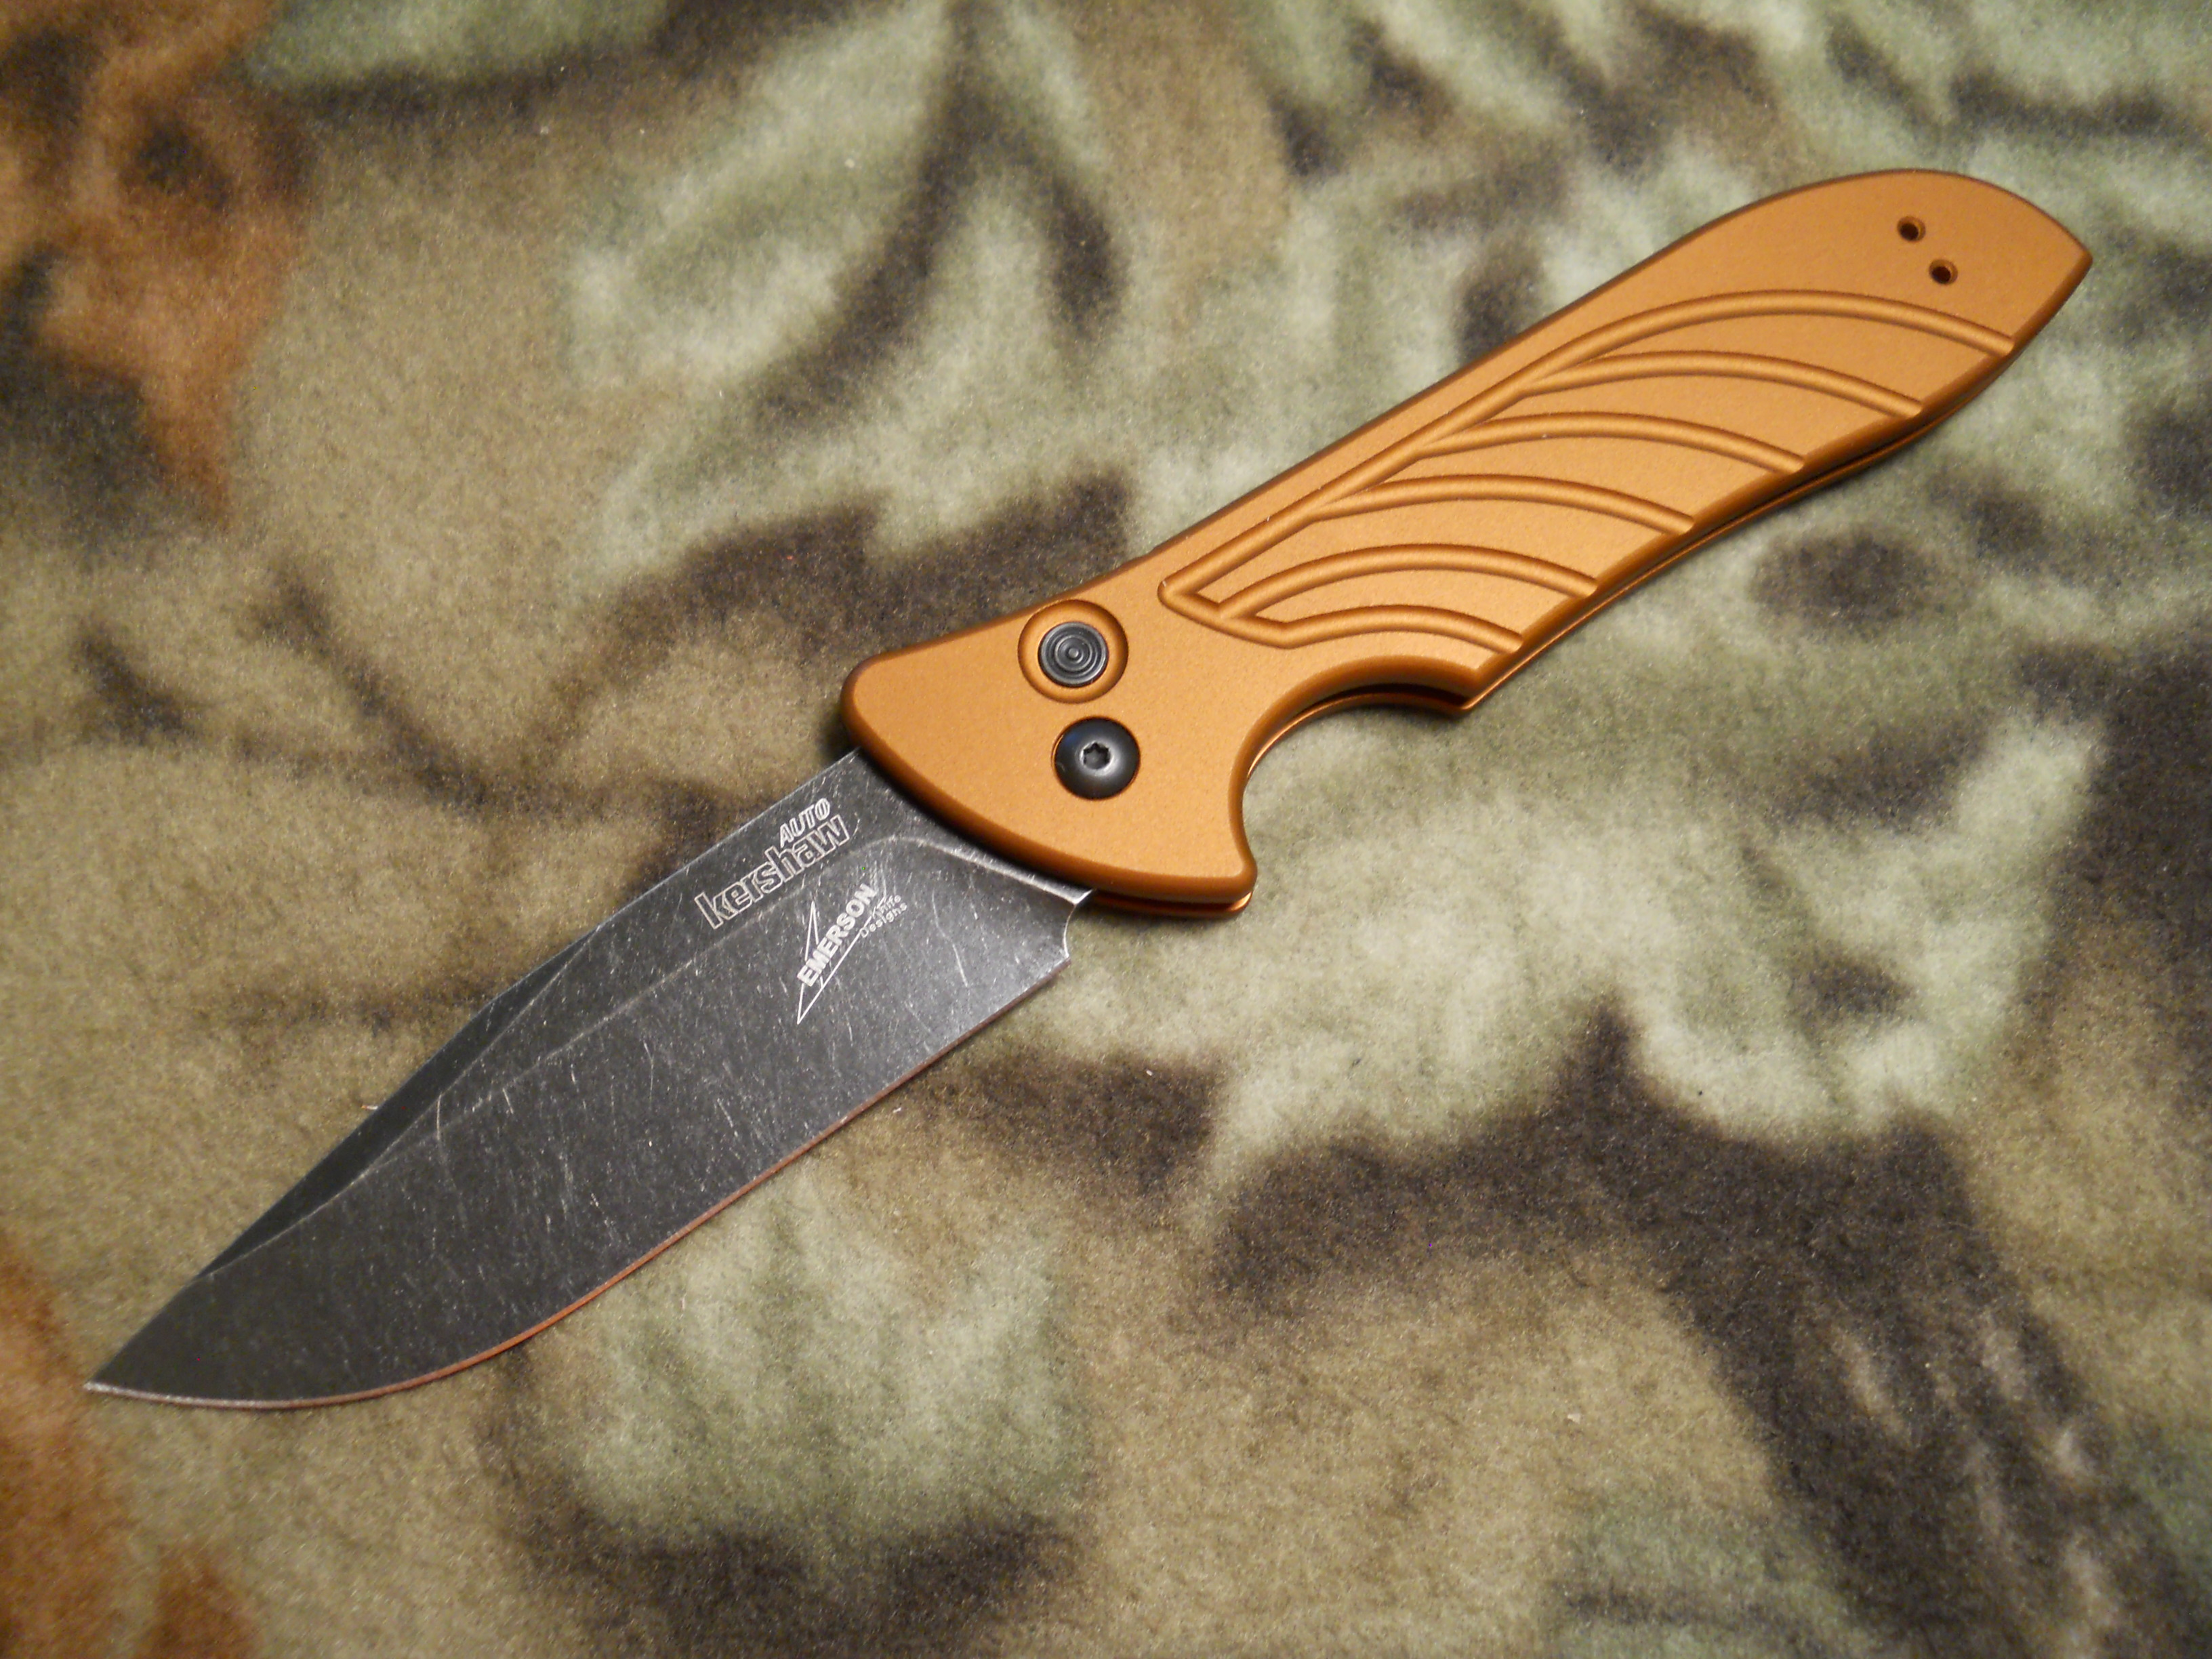knife: (57, 688, 1116, 1422)
